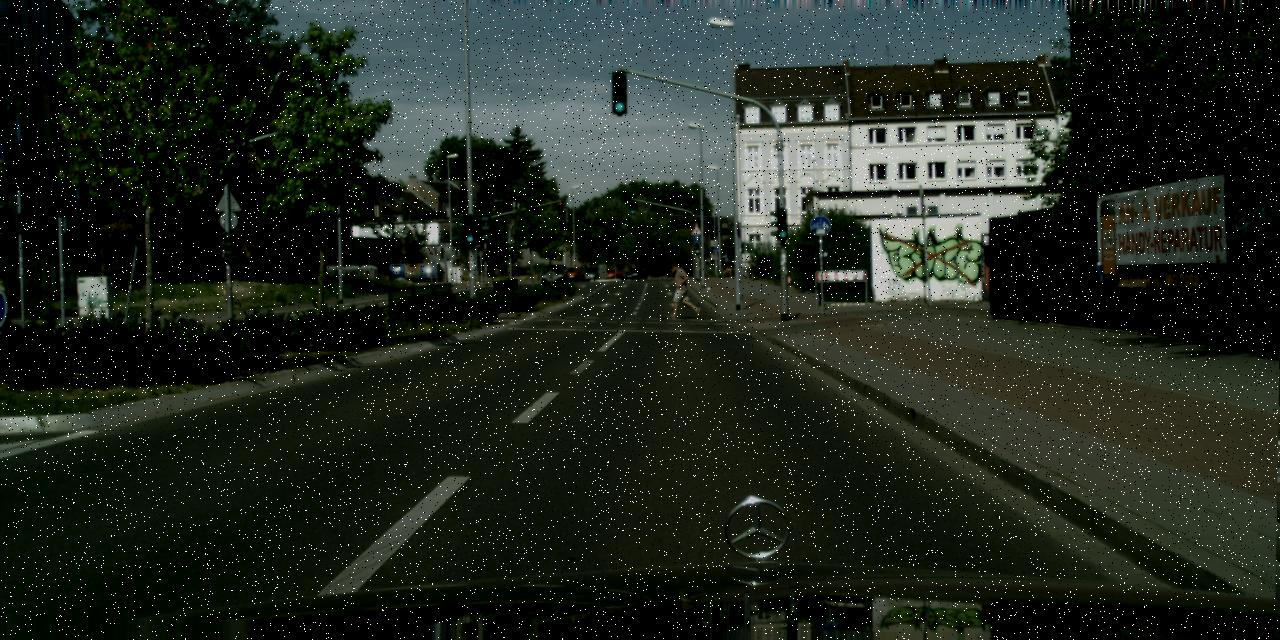ped: (669, 262, 692, 316)
